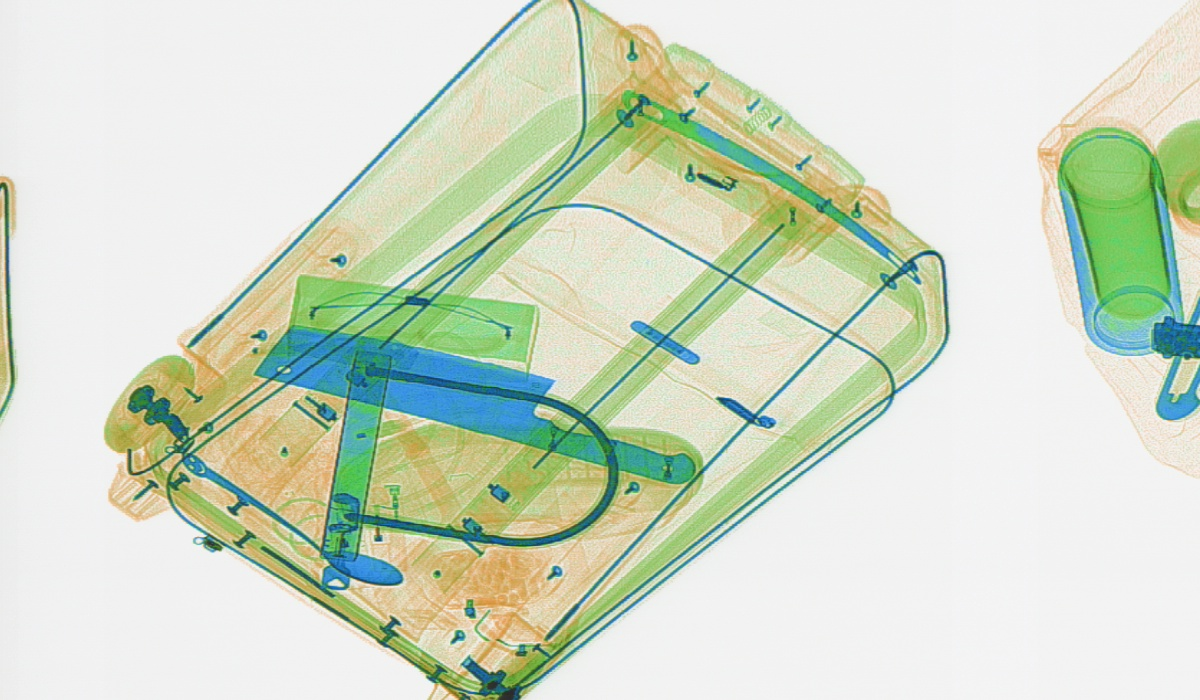knife: (251, 322, 693, 485)
lighter: (363, 478, 409, 593)
